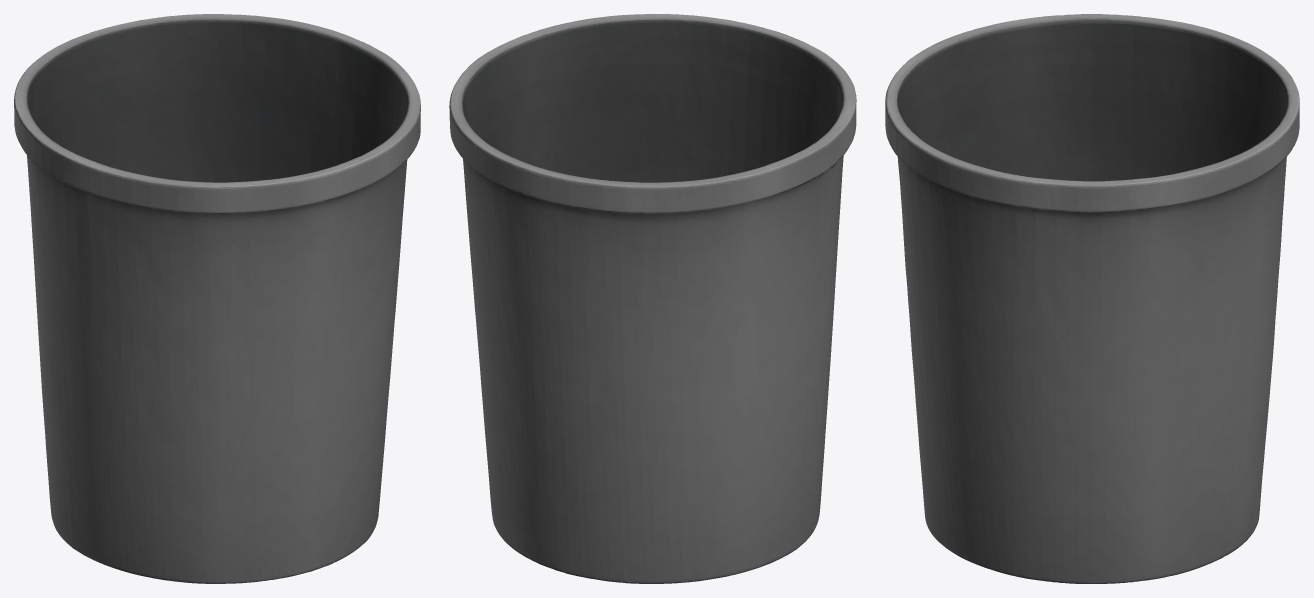
The model's file is trash_can.glb.
The picture shows the model from 3 angles, left to right: view 1: azimuth 30°, elevation 25°; view 2: azimuth 150°, elevation 25°; view 3: azimuth 270°, elevation 25°; orthographic projection.
Visible parts, largest first — view 1: trash_can.obj; view 2: trash_can.obj; view 3: trash_can.obj.
Part boxes in pixels (left/top/right/bottom): trash_can.obj: left=14, top=14, right=420, bottom=583; trash_can.obj: left=449, top=14, right=856, bottom=583; trash_can.obj: left=885, top=14, right=1299, bottom=583.
Size of the model in its own units: 0.3323 by 0.375 by 0.3378.
1 material, 1 textured.
